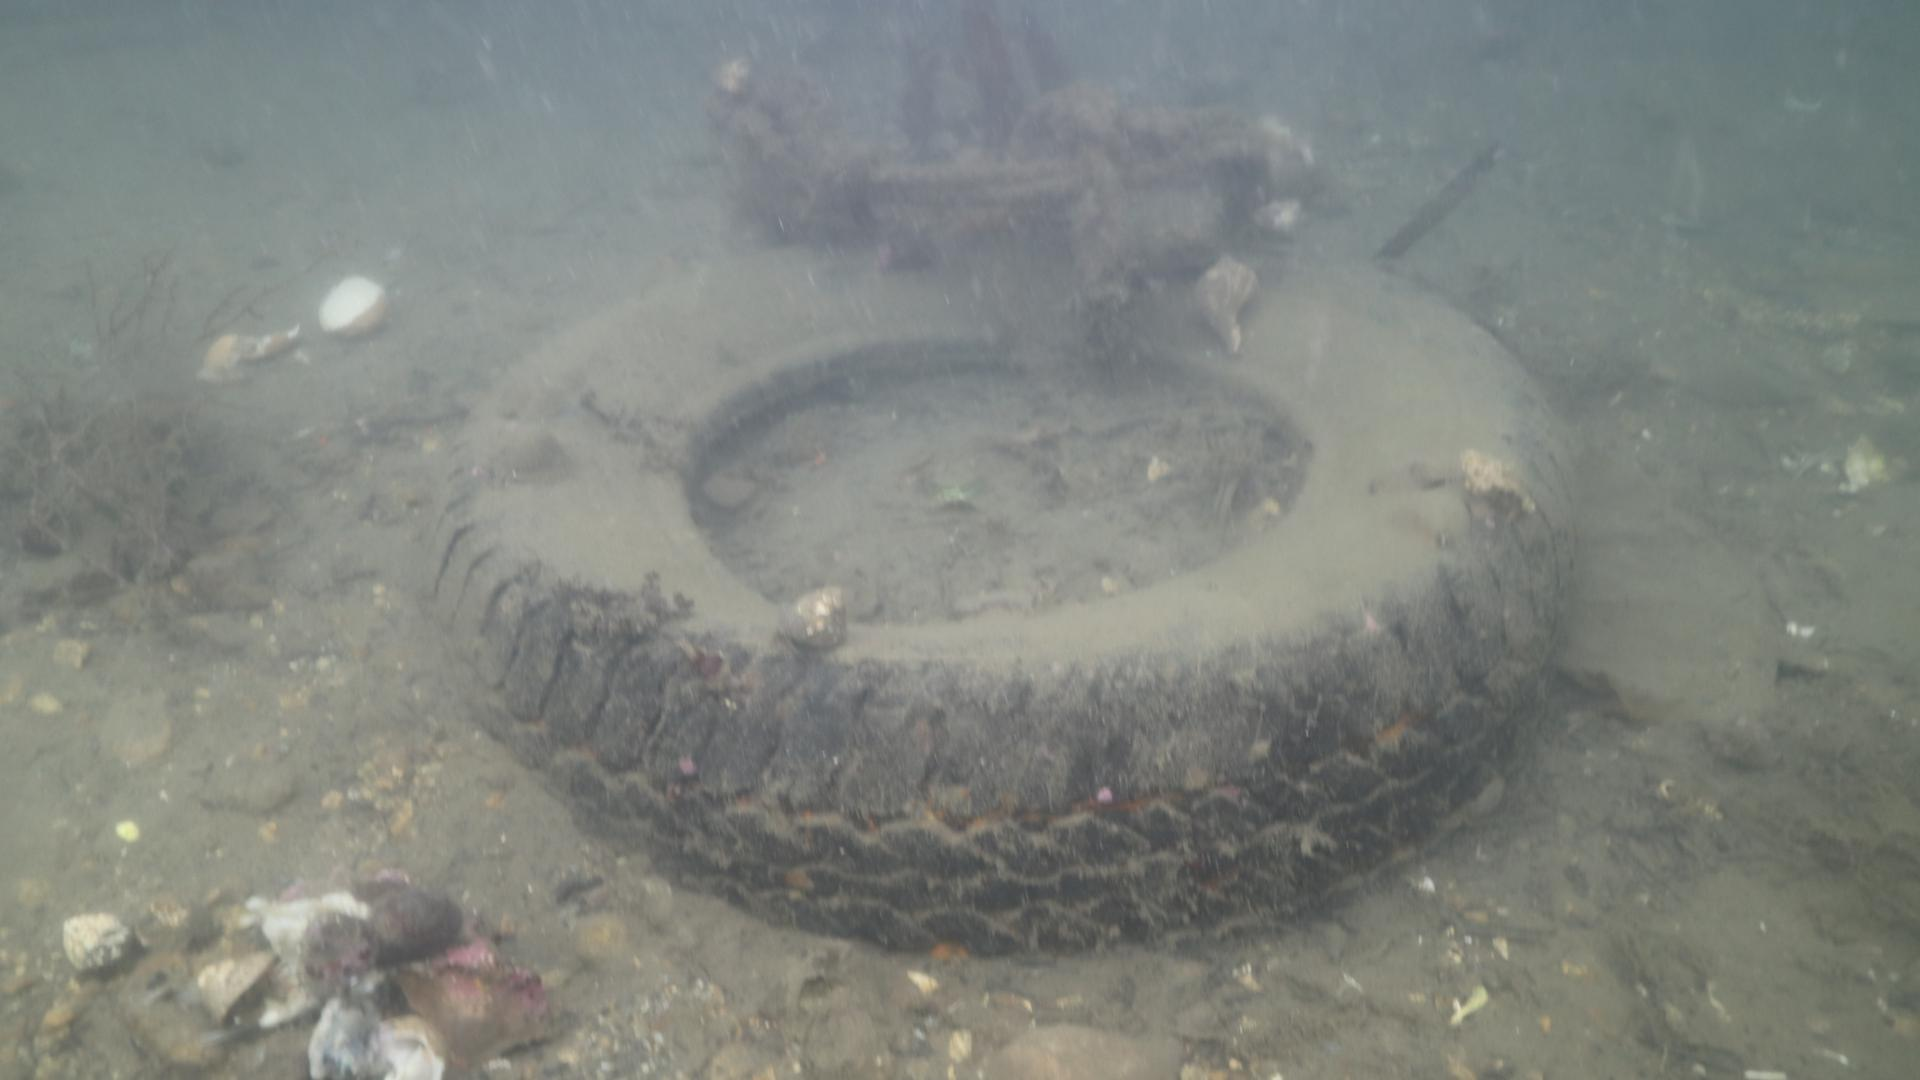tire: (425, 236, 1585, 967)
